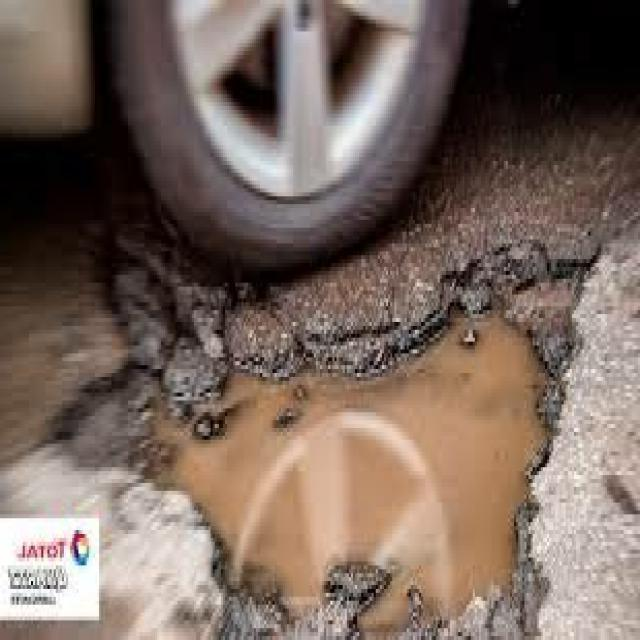pothole: (37, 196, 617, 640)
